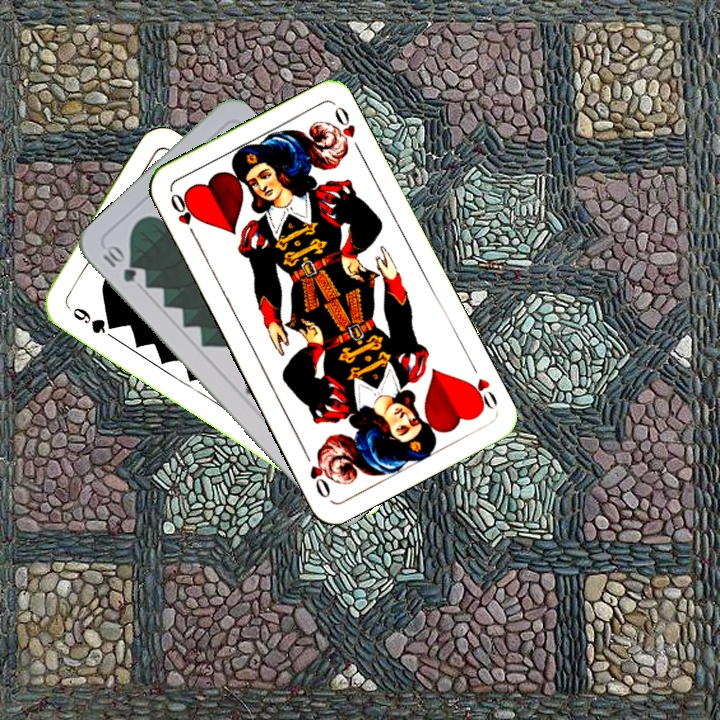G10: (98, 241, 139, 285)
G9: (62, 300, 119, 337)
HO: (462, 359, 501, 414), (166, 189, 200, 243)
